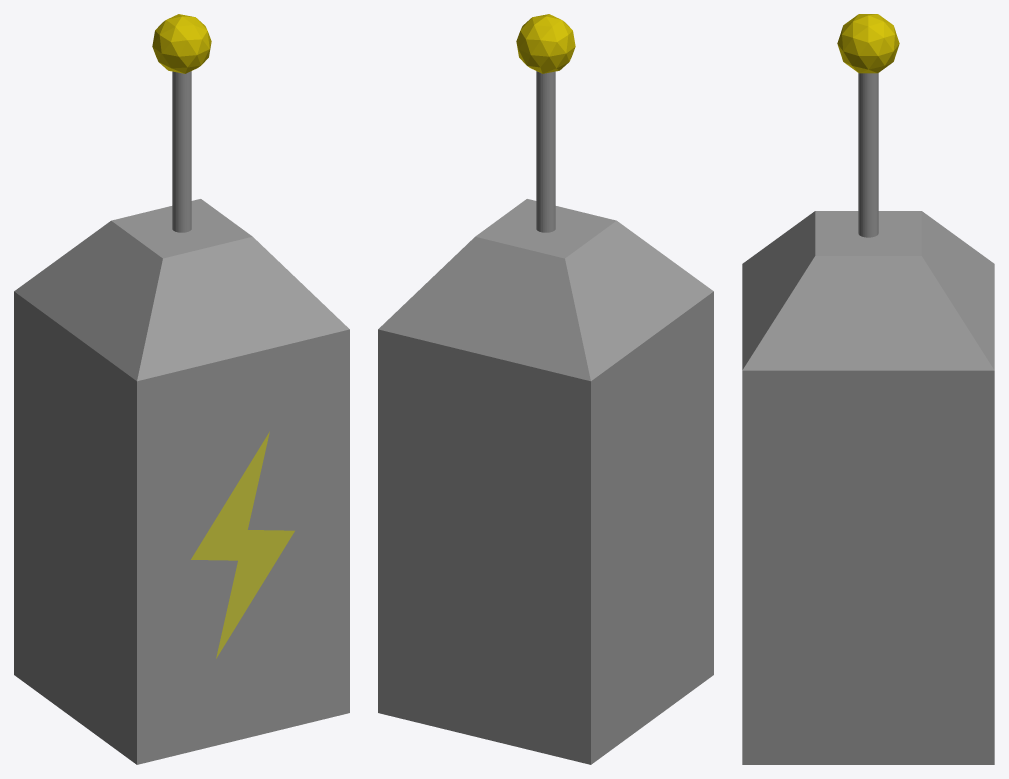
Rendered from 充電スポット１.fbx.
3 views of the same model, side by side, from view 1: azimuth 30°, elevation 25°; view 2: azimuth 150°, elevation 25°; view 3: azimuth 270°, elevation 25° (orthographic). The views are drawn at different scales.
Parts seen in each view (by area): view 1: Cube, 円柱, ICO球; view 2: Cube, 円柱, ICO球; view 3: Cube, 円柱, ICO球.
Boxes of the visible parts, x1,y1,x2,y2 form: Cube: [14, 199, 349, 764]; 円柱: [172, 71, 191, 232]; ICO球: [152, 14, 211, 73]; Cube: [378, 199, 713, 764]; 円柱: [536, 71, 555, 232]; ICO球: [516, 14, 575, 73]; Cube: [742, 211, 994, 764]; 円柱: [858, 73, 878, 237]; ICO球: [837, 14, 899, 73].
Size of the model in its own units: 114 by 345 by 114.
